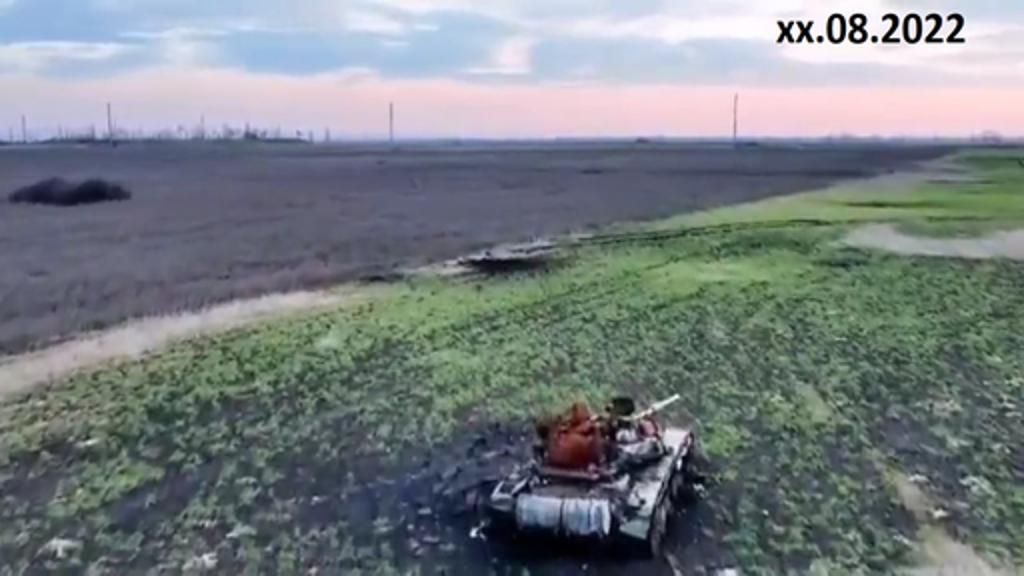TANK: (484, 388, 698, 560)
